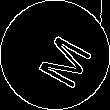M_NW: (22, 23, 88, 87)
